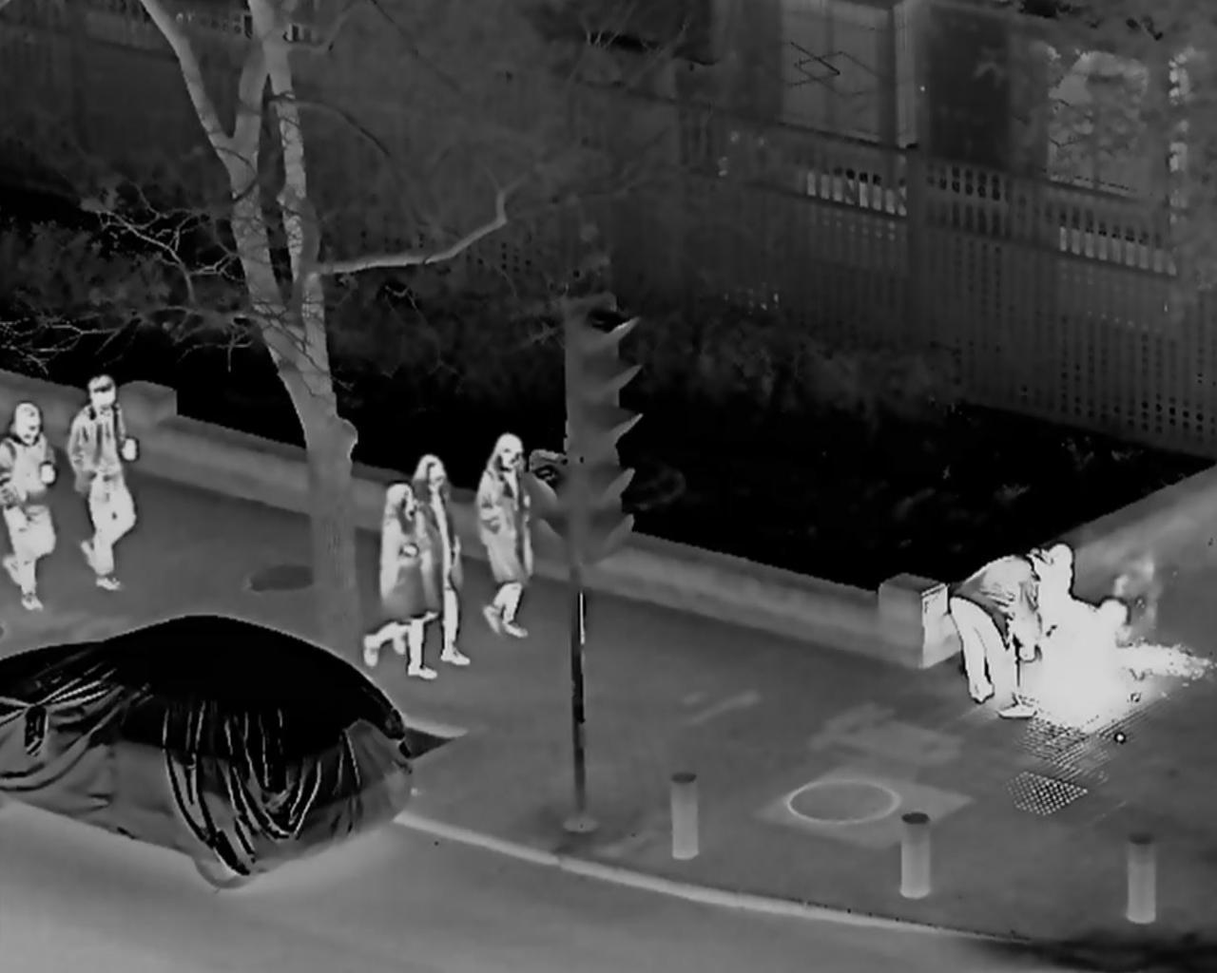person: (949, 544, 1050, 720), (63, 377, 140, 597), (352, 488, 432, 677), (404, 459, 473, 668), (470, 432, 537, 639), (1014, 544, 1105, 666)
